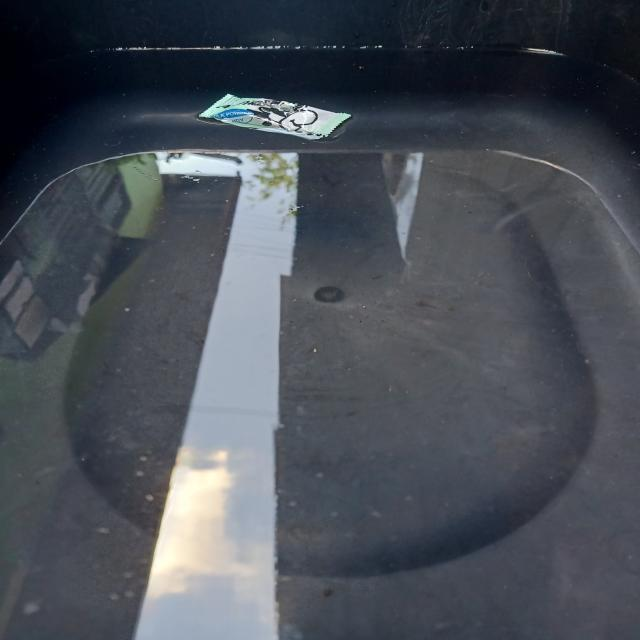Plastic Wrapper: (197, 94, 351, 140)
